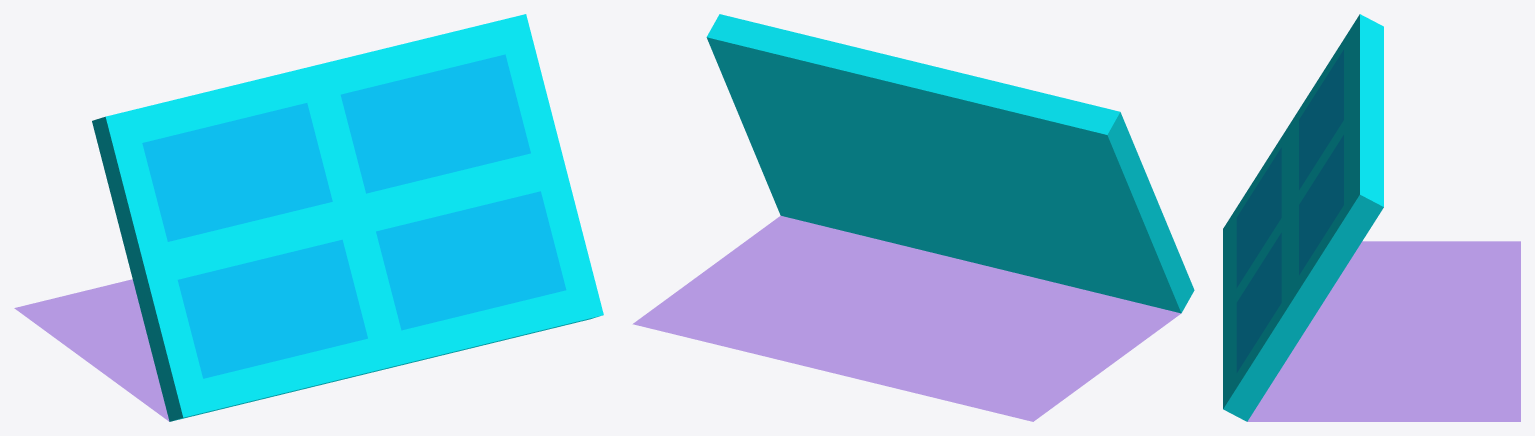
Rendered from Building_015_d.fbx.
3 renders of one model, left to right at view 1: azimuth 30°, elevation 25°; view 2: azimuth 150°, elevation 25°; view 3: azimuth 270°, elevation 25°, orthographic. The views are drawn at different scales.
Visible parts, largest first — view 1: Building_015_d; view 2: Building_015_d; view 3: Building_015_d.
Boxes of the visible parts, x1,y1,x2,y2 form: Building_015_d: [14, 14, 603, 421]; Building_015_d: [632, 14, 1194, 421]; Building_015_d: [1223, 14, 1520, 421].
Size of the model in its own units: 21.8 by 12.8 by 15.19.
